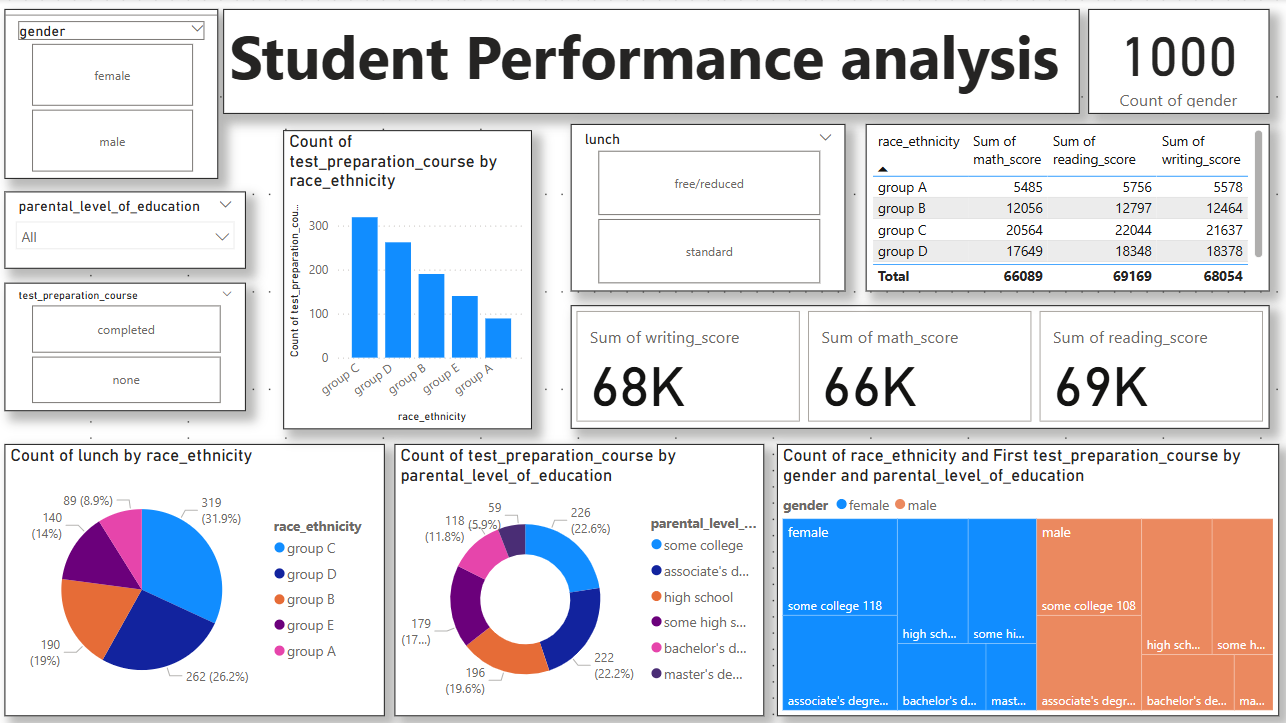

The dashboard page shown, as its layout file describes it:
{"tool":"powerbi","page":{"name":"Student","canvas":[1280,720],"ordinal":0},"visuals":[{"type":"slicer","fields":{"Values":["study_performance.gender"]},"box":[12.3,9.8,210.5,167.4],"z":0},{"type":"pieChart","fields":{"Category":["study_performance.race_ethnicity"],"Y":["CountNonNull(study_performance.lunch)"]},"box":[12.3,438.2,374.2,268.3],"z":1000},{"type":"textbox","box":[227.7,9.8,843.1,103.4],"z":2000},{"type":"lineStackedColumnComboChart","fields":{"Category":["study_performance.race_ethnicity"],"Y":["CountNonNull(study_performance.test_preparation_course)"]},"box":[286.8,129.2,244.9,294.2],"z":3000},{"type":"cardVisual","fields":{"Data":["Sum(study_performance.writing_score)","Sum(study_performance.math_score)","Sum(study_performance.reading_score)"]},"box":[569.8,301.5,688,121.8],"z":4000},{"type":"donutChart","fields":{"Category":["study_performance.parental_level_of_education"],"Y":["CountNonNull(study_performance.test_preparation_course)"]},"box":[396.3,438.2,364.3,268.3],"z":5000},{"type":"treemap","fields":{"Group":["study_performance.gender"],"Details":["study_performance.parental_level_of_education"],"Values":["CountNonNull(study_performance.race_ethnicity)"]},"box":[772.9,438.2,494.8,268.3],"z":6000},{"type":"card","fields":{"Values":["CountNonNull(study_performance.gender)"]},"box":[1079.4,9.8,178.5,103.4],"z":7000},{"type":"slicer","fields":{"Values":["study_performance.parental_level_of_education"]},"box":[12.3,189.5,237.5,76.3],"z":8000},{"type":"slicer","fields":{"Values":["study_performance.test_preparation_course"]},"box":[12.3,279.4,237.5,126.8],"z":9000},{"type":"slicer","fields":{"Values":["study_performance.lunch"]},"box":[569.8,123.1,270.8,164.9],"z":10000},{"type":"tableEx","fields":{"Values":["study_performance.race_ethnicity","Sum(study_performance.math_score)","Sum(study_performance.reading_score)","Sum(study_performance.writing_score)"]},"box":[860.3,123.1,397.5,164.9],"z":11000}]}

Visuals, with their boxes in screenshot pixels (x1, y1, x2, y2), scaled from the page's 1280x720 canvas onto the 1286x723 screenshot:
slicer - study_performance.gender: bbox=[12, 10, 224, 178]
pieChart - study_performance.race_ethnicity x CountNonNull(study_performance.lunch): bbox=[12, 440, 388, 709]
textbox: bbox=[229, 10, 1076, 114]
lineStackedColumnComboChart - study_performance.race_ethnicity x CountNonNull(study_performance.test_preparation_course): bbox=[288, 130, 534, 425]
cardVisual - Sum(study_performance.writing_score) x Sum(study_performance.math_score): bbox=[572, 303, 1264, 425]
donutChart - study_performance.parental_level_of_education x CountNonNull(study_performance.test_preparation_course): bbox=[398, 440, 764, 709]
treemap - study_performance.gender x study_performance.parental_level_of_education: bbox=[777, 440, 1274, 709]
card - CountNonNull(study_performance.gender): bbox=[1084, 10, 1264, 114]
slicer - study_performance.parental_level_of_education: bbox=[12, 190, 251, 267]
slicer - study_performance.test_preparation_course: bbox=[12, 281, 251, 408]
slicer - study_performance.lunch: bbox=[572, 124, 845, 289]
tableEx - study_performance.race_ethnicity x Sum(study_performance.math_score): bbox=[864, 124, 1264, 289]
